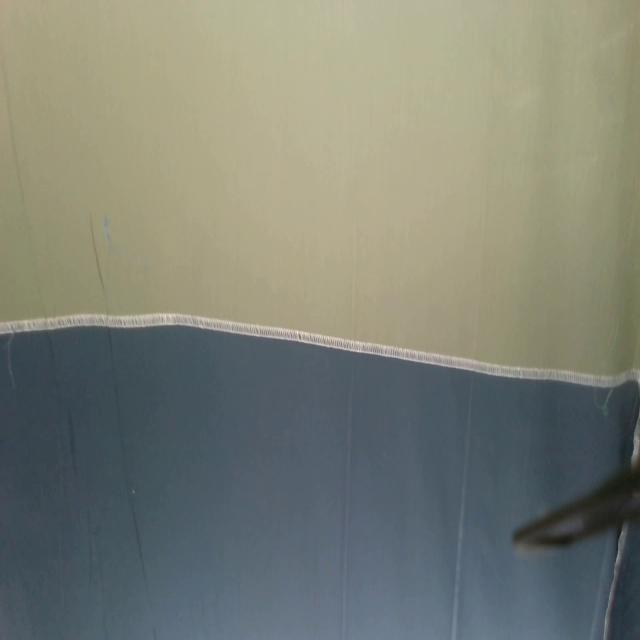crease: (89, 214, 149, 587), (450, 185, 488, 640), (5, 76, 55, 361), (340, 213, 358, 640)
